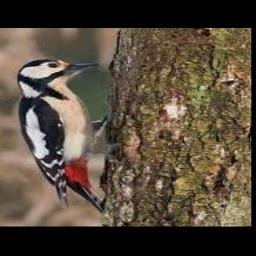Woodpecker: (18, 58, 128, 212)
